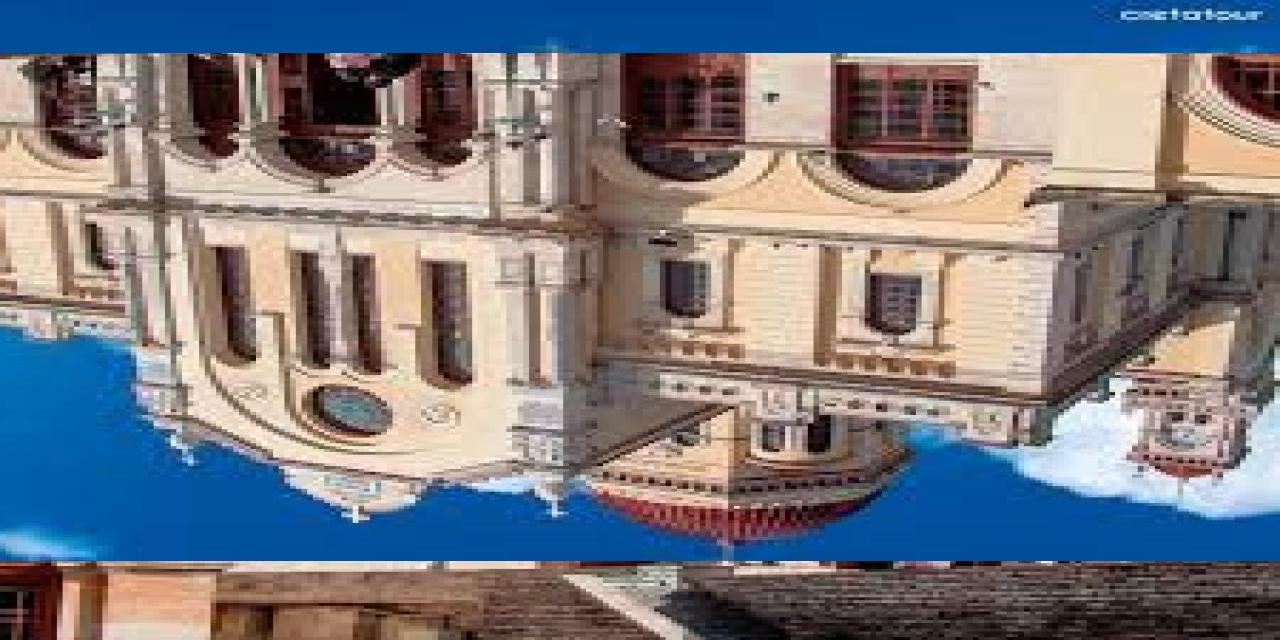Agios Minas: (1, 54, 1280, 562)
